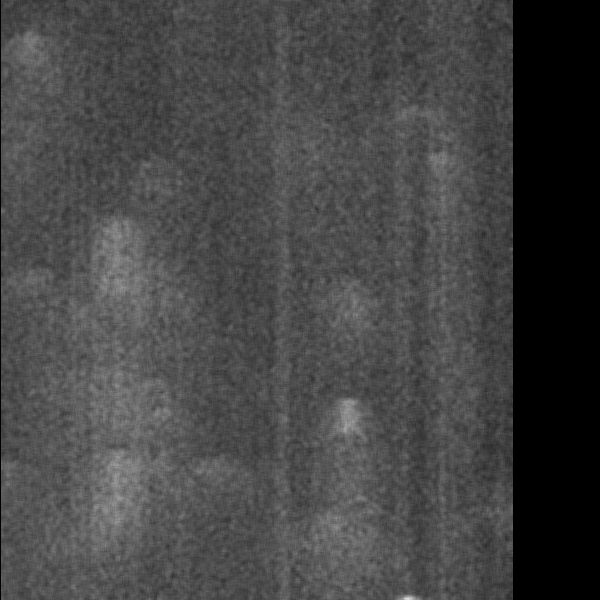spark: (91, 236, 147, 308), (318, 392, 377, 454), (320, 508, 356, 556), (156, 386, 184, 430)
